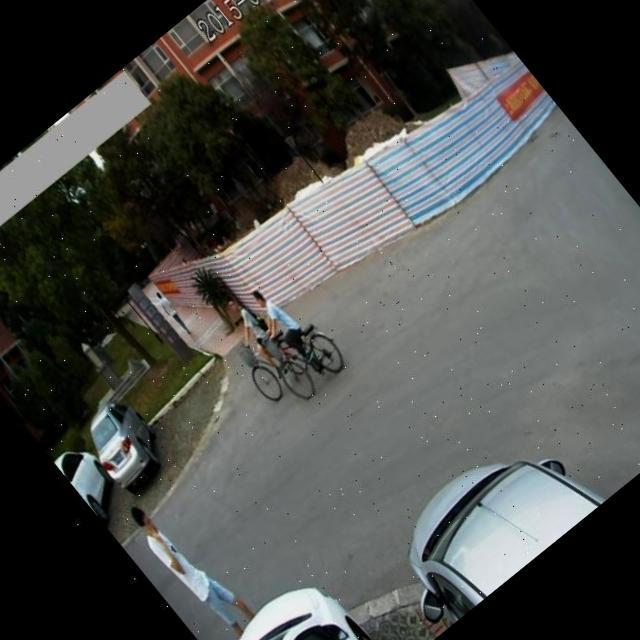person: (119, 489, 258, 640), (240, 276, 311, 356), (218, 292, 282, 362), (149, 286, 198, 340)
